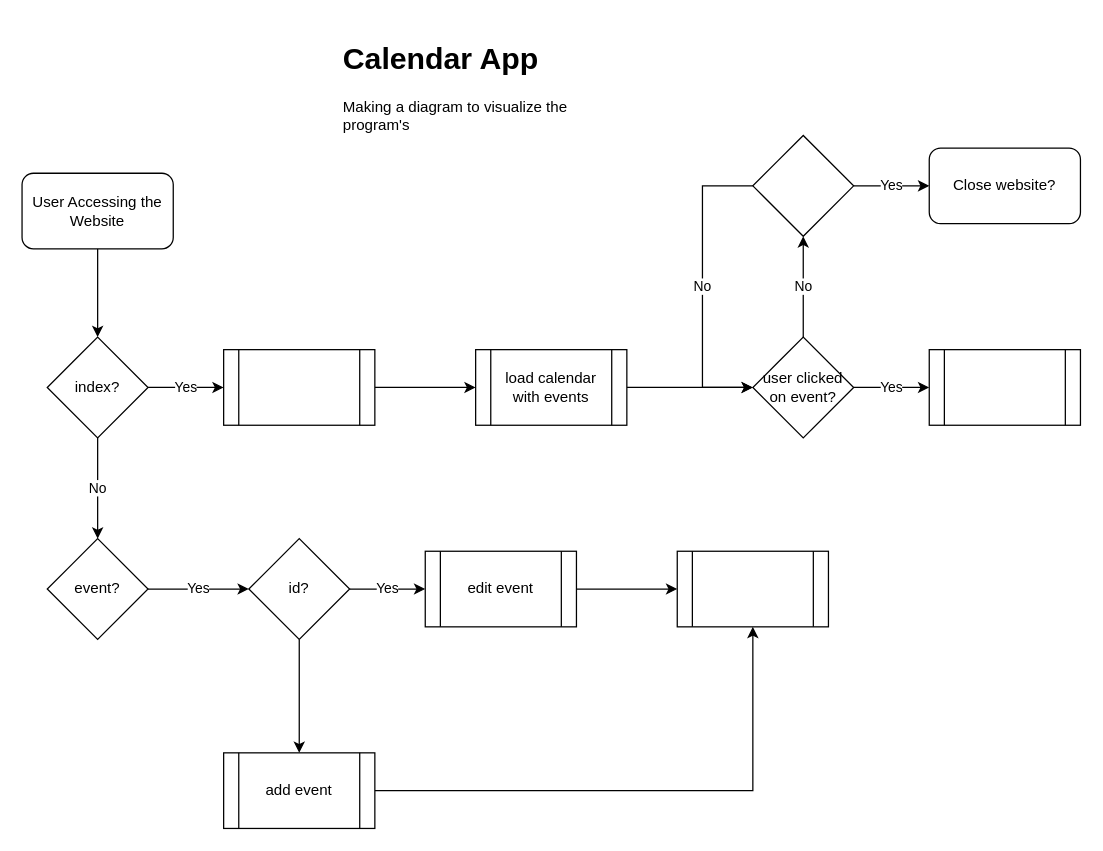
The diagram is 1103 pixels wide and 851 high, and some of its shapes have lost their labels. Here are the shapes that lost their labels. From the top down, the centre of each, then its label:
(x=803, y=185): leave the website?
(x=298, y=386): get events
(x=1004, y=386): go to event `with id`
(x=752, y=588): go to index
